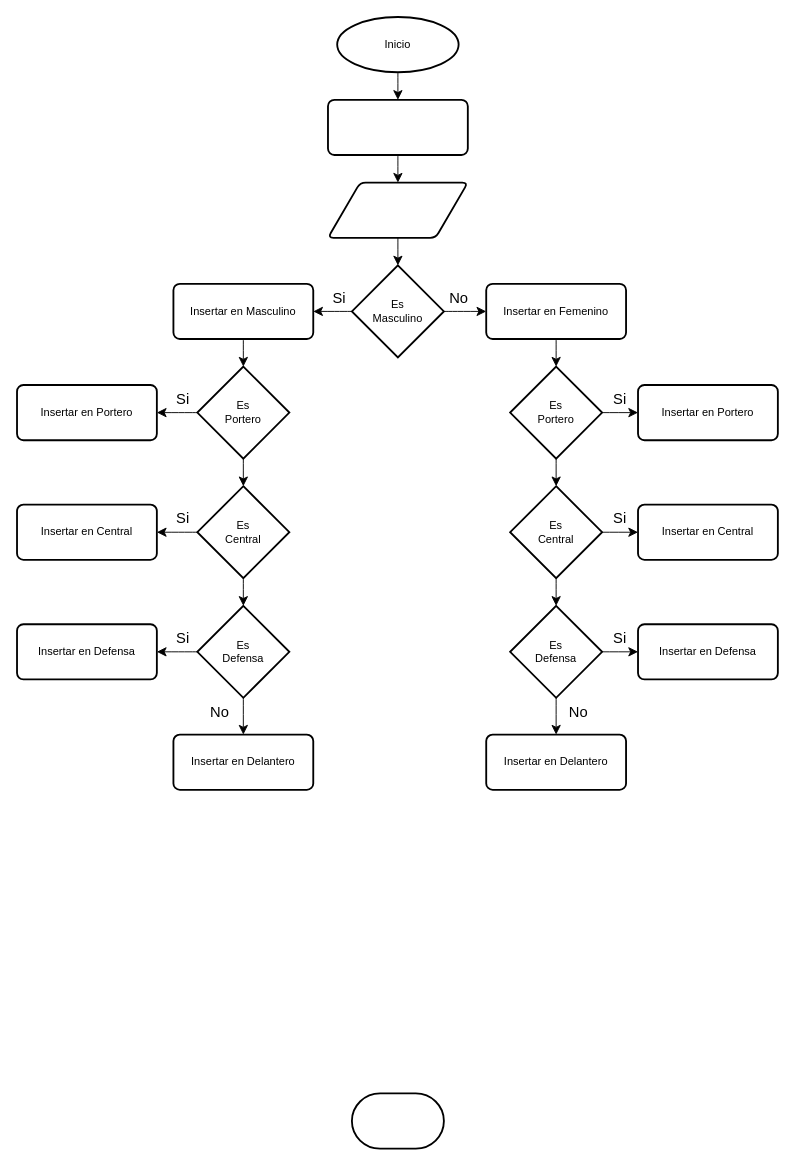
Some shapes in this 794 by 1165 pixel diagram are drawn without their labels. The box of each missing label's shape, as (x1, y1, x2, y2) in pixels:
Comprueba Jugador: (327, 181, 468, 238)
Elimina Duplicados: (327, 98, 468, 155)
Fin: (351, 1092, 444, 1149)
